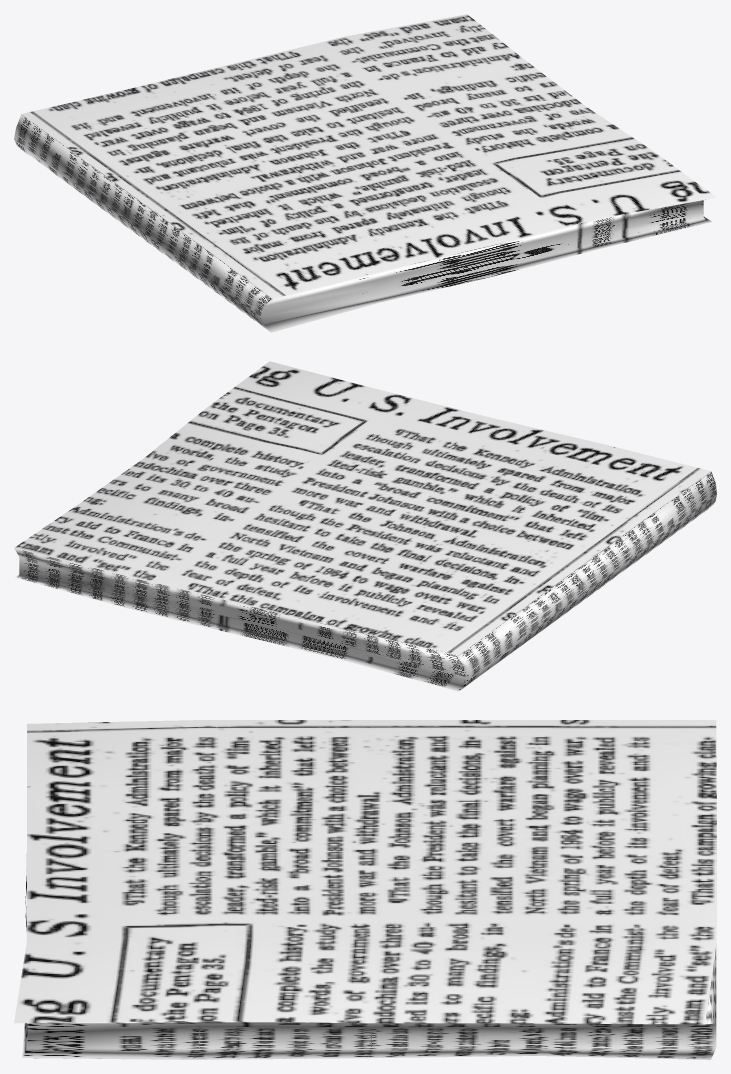
Rendered from newspaper.fbx.
The picture shows the model from 3 angles, top to bottom: view 1: azimuth 30°, elevation 25°; view 2: azimuth 150°, elevation 25°; view 3: azimuth 270°, elevation 25°; orthographic projection. The views are drawn at different scales.
Visible parts, largest first — view 1: Cube; view 2: Cube; view 3: Cube.
Boxes of the visible parts, x1,y1,x2,y2 form: Cube: [14, 14, 716, 332]; Cube: [14, 361, 716, 691]; Cube: [14, 720, 716, 1059].
Size of the model in its own units: 52.15 by 4.37 by 51.03.
